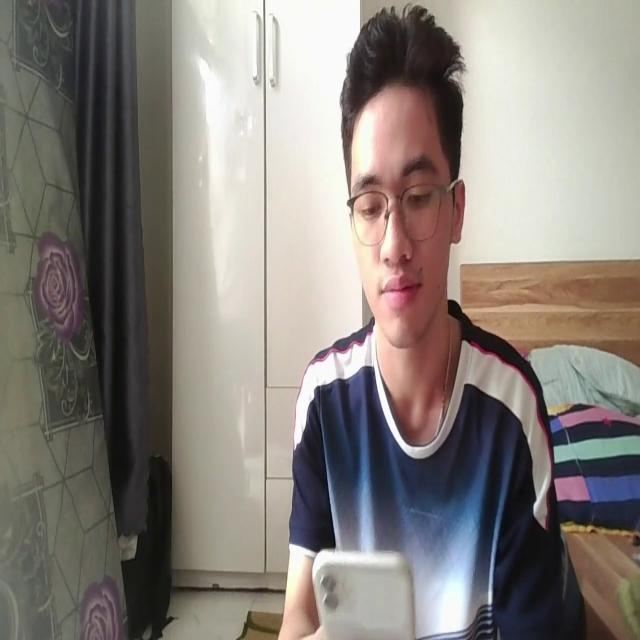phone: (306, 535, 414, 640)
student: (274, 1, 582, 640)
